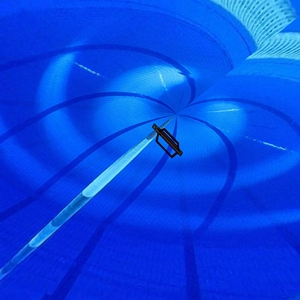submarine: (145, 119, 189, 163)
